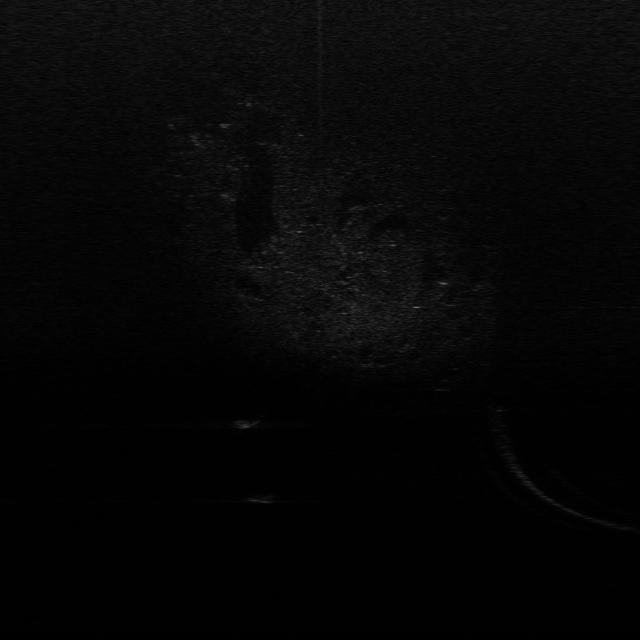cube: (243, 487, 284, 508)
square cage: (229, 406, 267, 434)
